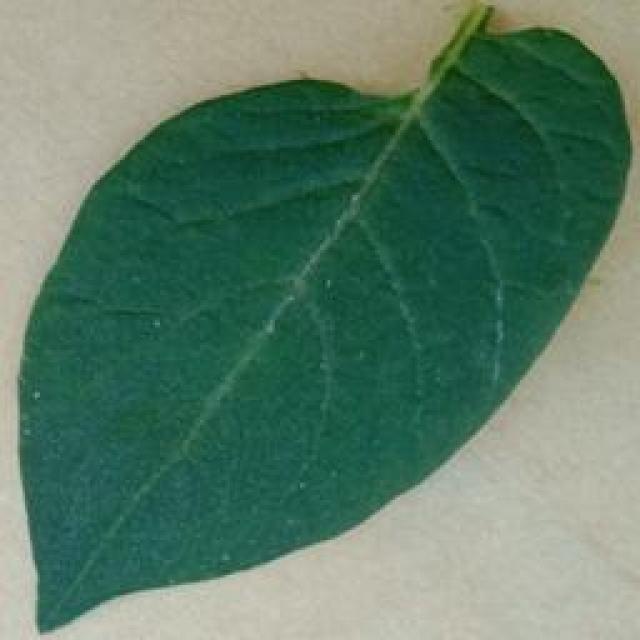Potato_Healthy: (16, 10, 622, 634)
